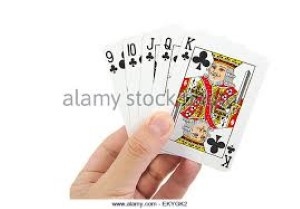JackOfClubs: (143, 28, 160, 132)
KingOfClubs: (171, 30, 264, 173)
NineOfClubs: (100, 32, 125, 141)
QueenOfClubs: (159, 25, 184, 111)
TenOfClubs: (125, 31, 145, 138)
